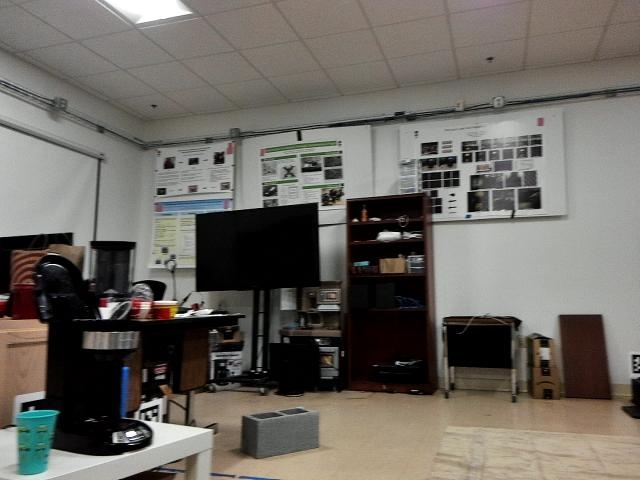coffee_cup: (15, 409, 58, 471)
